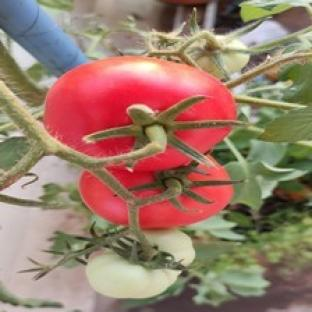Tomato: (44, 56, 236, 157), (140, 156, 232, 228), (87, 251, 181, 298), (194, 35, 249, 79)
